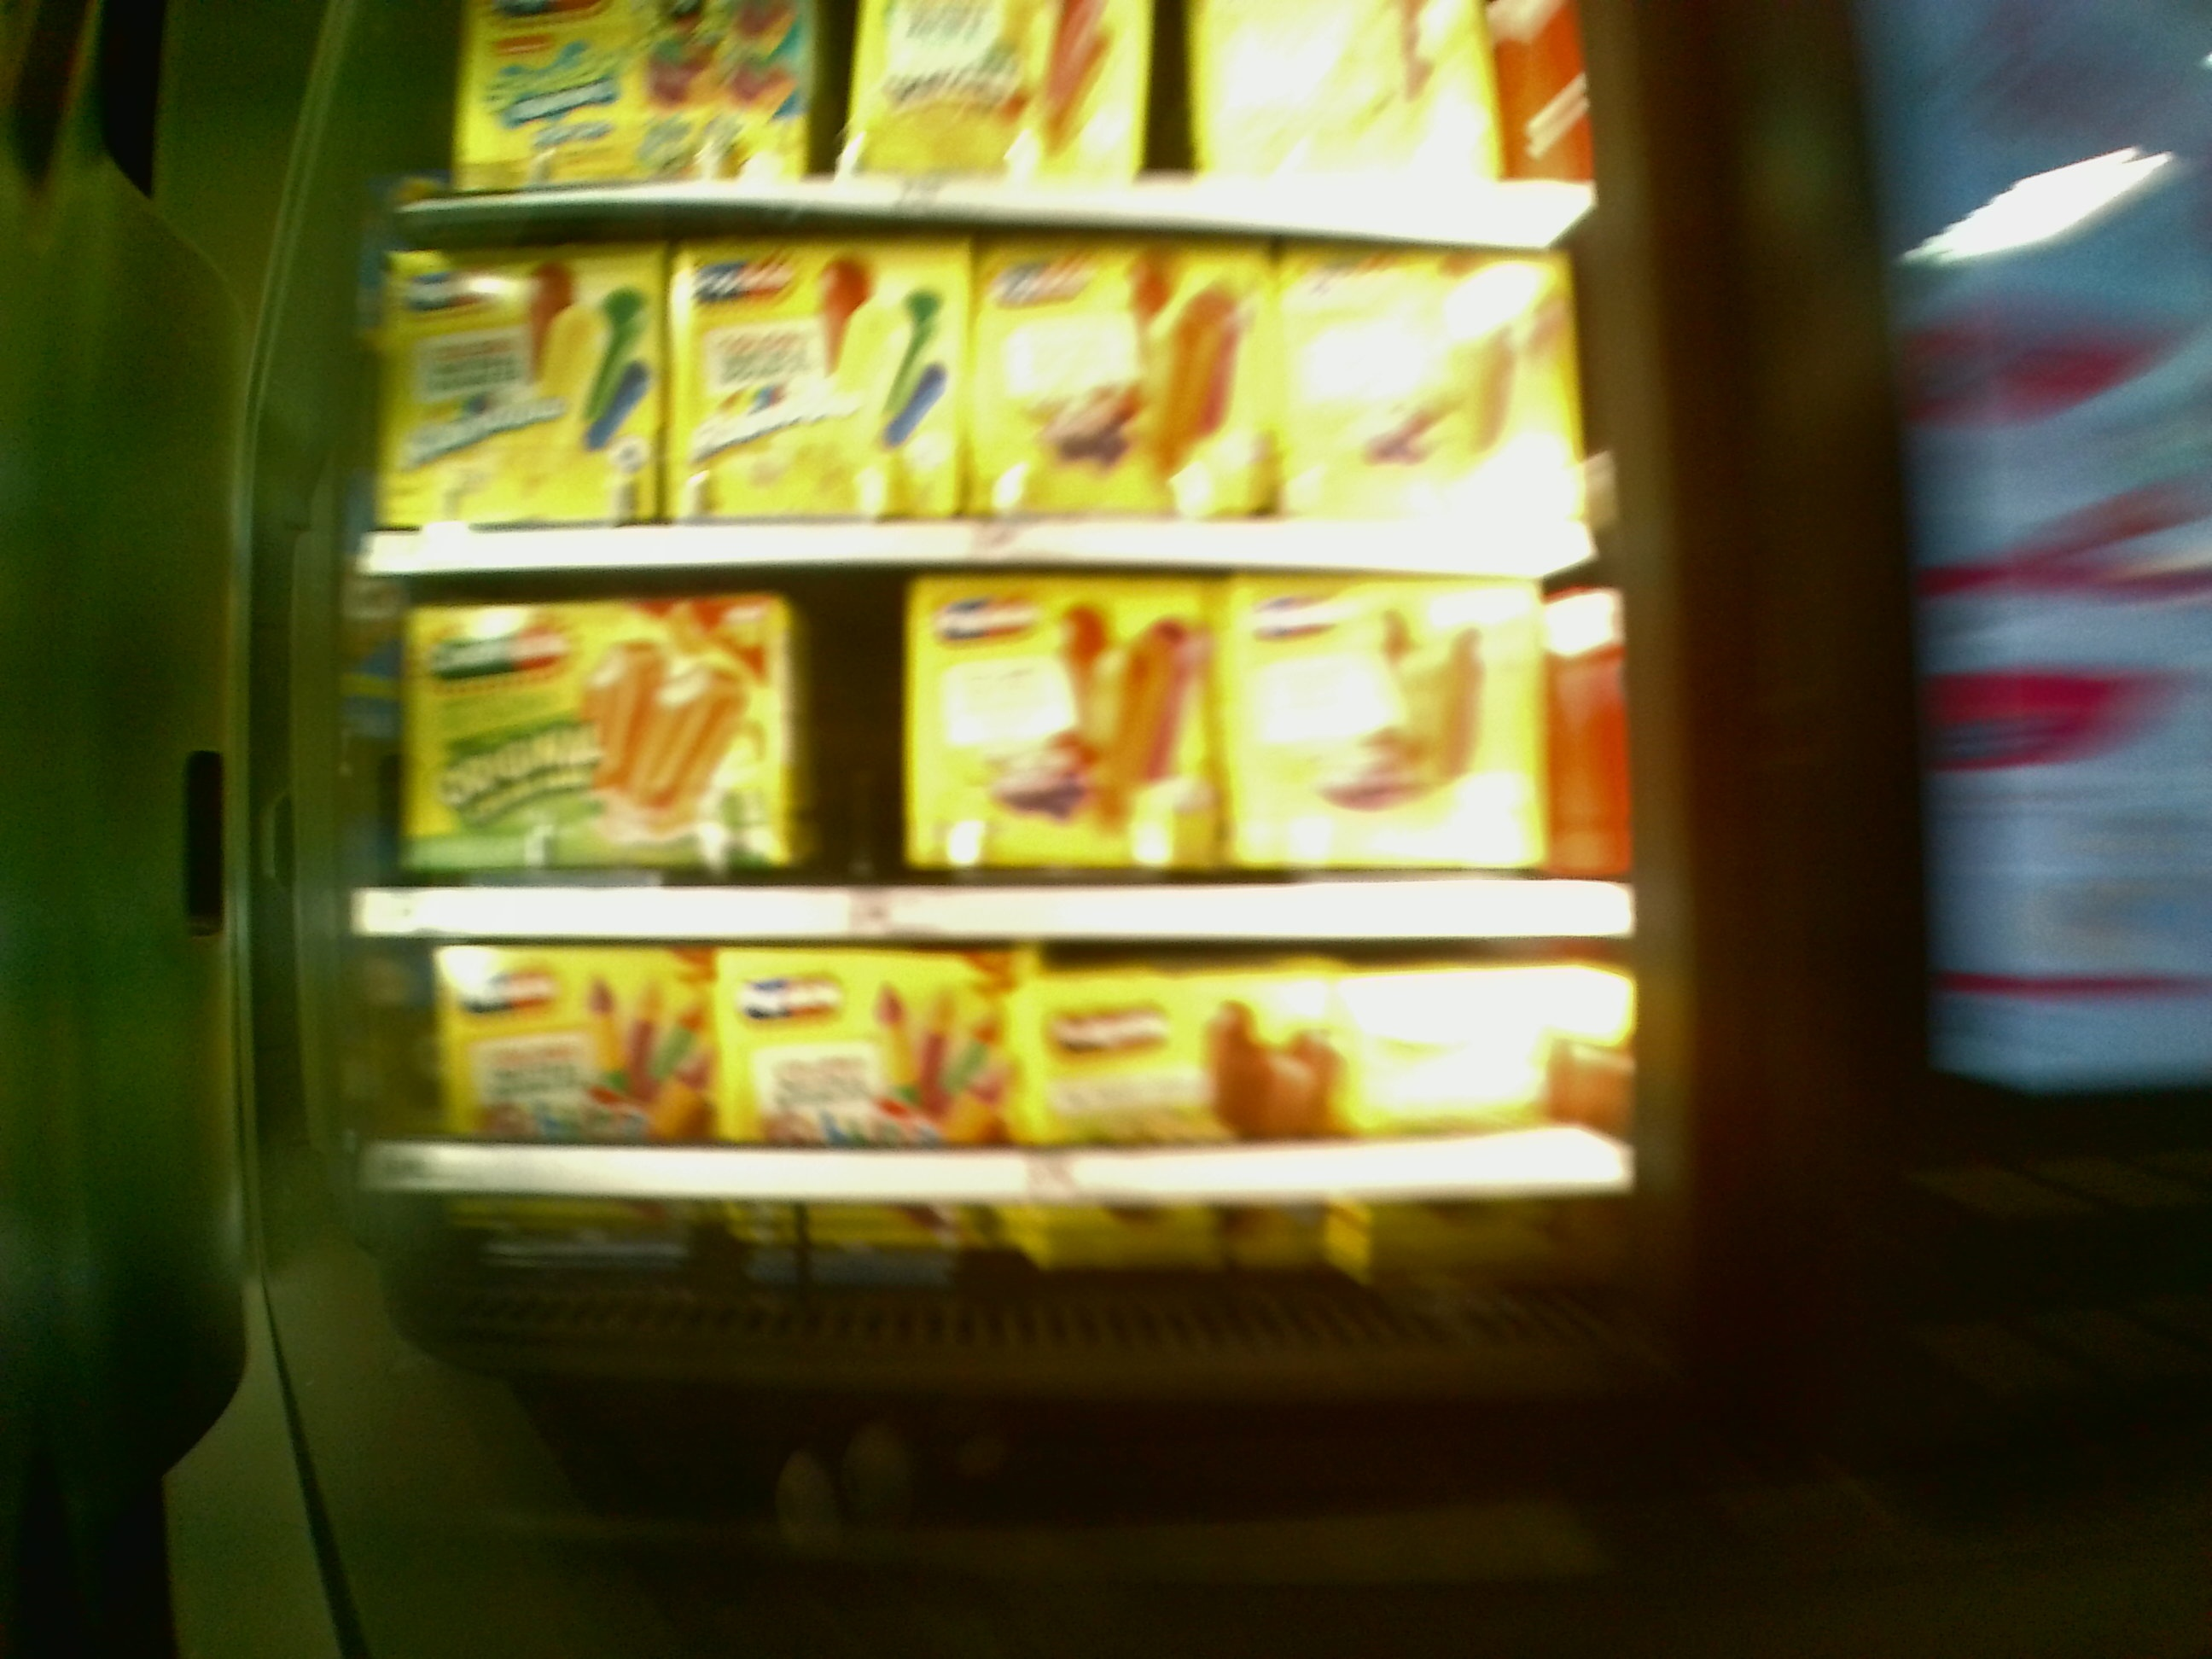shelf: (371, 946, 1629, 1309), (364, 230, 1566, 596), (354, 591, 1606, 941)
